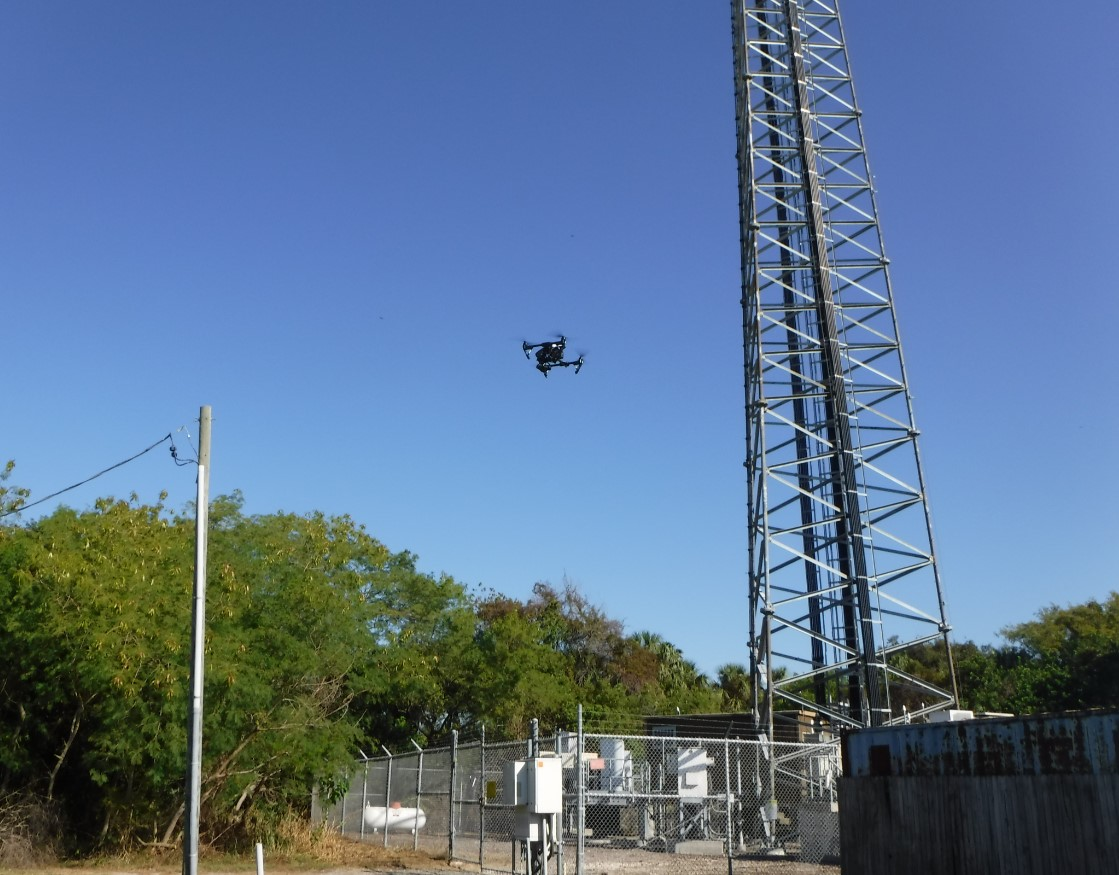drone: (514, 330, 595, 380)
